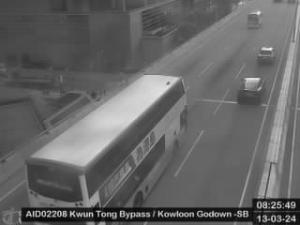bus: (26, 74, 190, 224)
vehicle: (236, 76, 266, 104), (256, 45, 276, 63), (248, 9, 262, 29)
